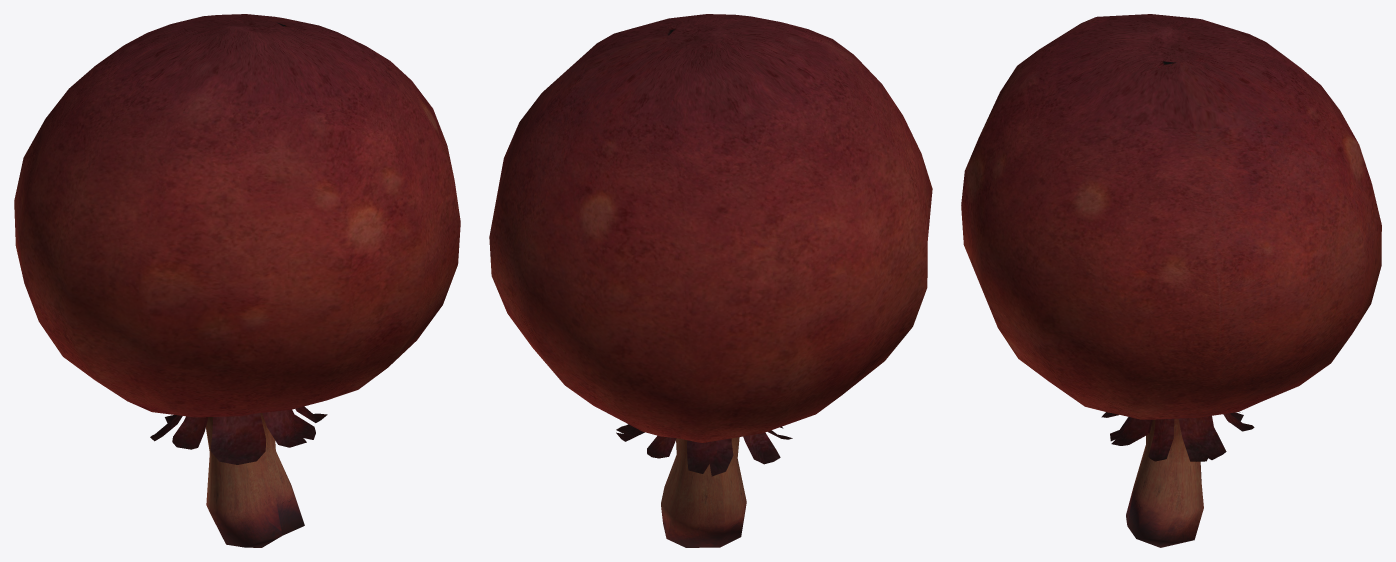
The model's file is A_ChampiExplosif.fbx.
3 renders of one model, left to right at view 1: azimuth 30°, elevation 25°; view 2: azimuth 150°, elevation 25°; view 3: azimuth 270°, elevation 25°, orthographic. The views are drawn at different scales.
Parts seen in each view (by area): view 1: A_ChampiExplosif_LD; view 2: A_ChampiExplosif_LD; view 3: A_ChampiExplosif_LD.
Part boxes in pixels (x1,y1,x2,y2): A_ChampiExplosif_LD: (14,14,460,547); A_ChampiExplosif_LD: (489,14,932,547); A_ChampiExplosif_LD: (961,14,1381,547).
Size of the model in its own units: 10.4 by 13.37 by 10.2.
1 material, 1 textured.
